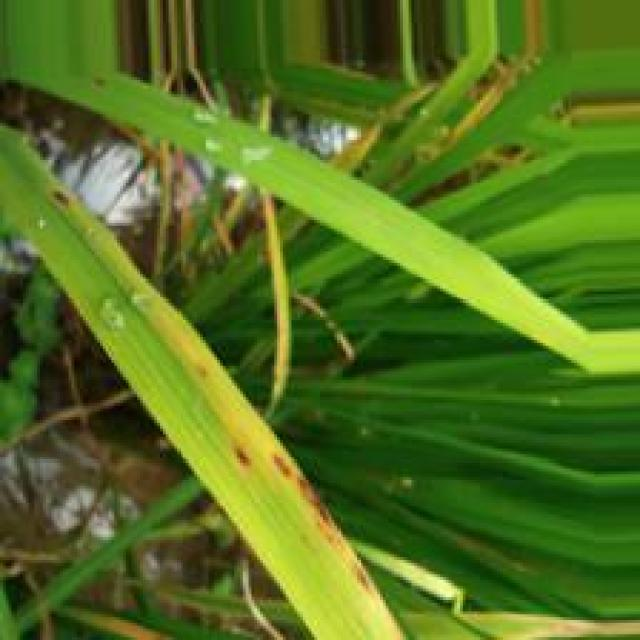Narrow_Brown_Leaf_Spot: (38, 176, 383, 603)
